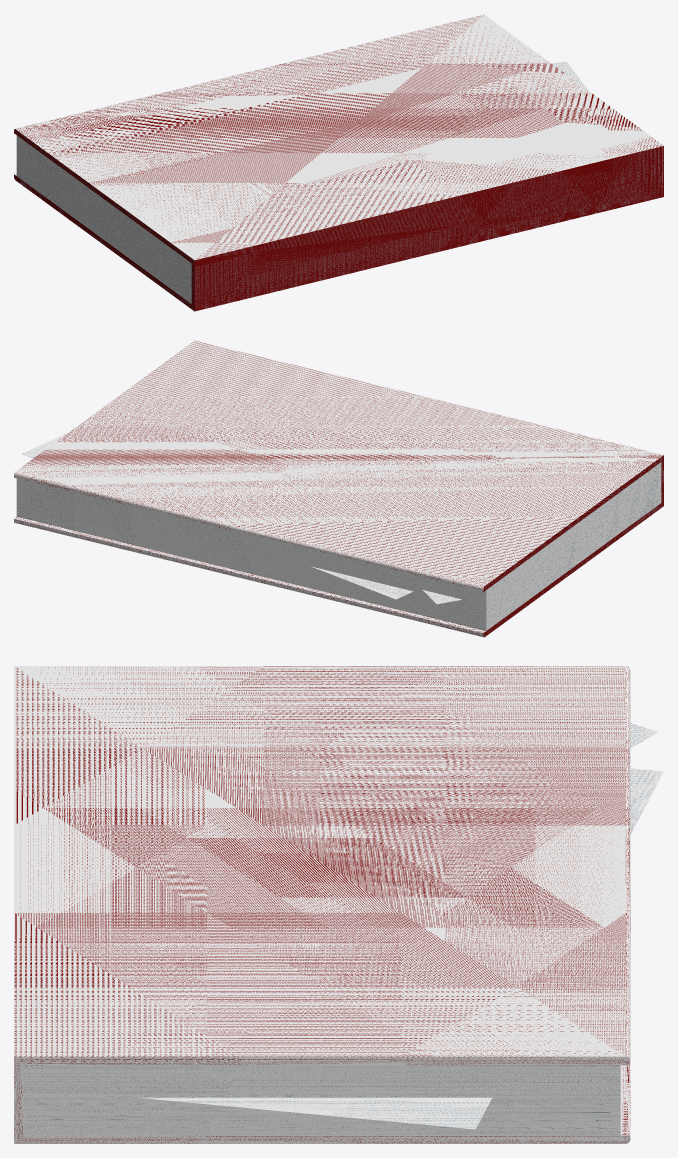
3 renders of one model, top to bottom at view 1: azimuth 30°, elevation 25°; view 2: azimuth 150°, elevation 25°; view 3: azimuth 270°, elevation 25°, orthographic. The views are drawn at different scales.
Parts seen in each view (by area): view 1: SketchUp (×2); view 2: SketchUp (×3); view 3: SketchUp (×2).
Boxes of the visible parts, x1,y1,x2,y2 form: SketchUp (×2): (14,14,663,311); SketchUp (×3): (14,340,663,637); SketchUp (×2): (14,666,663,1143).
Size of the model in its own units: 12.98 by 8.44 by 1.25.
